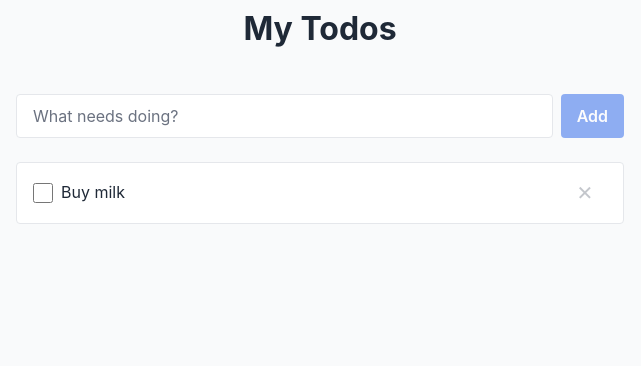
App integration › deleting a todo removes the item
Expected: the text "Buy milk" is shown, [61,182,125,202]
Click the button named "delete: buy milk".
click(585, 193)  # box [563,171,607,215]
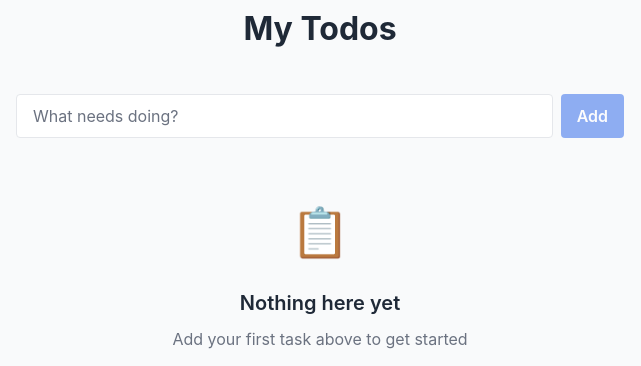
Expected: the text "Buy milk" is gone
Expected: the heading "Nothing here yet" is shown, [240,287,400,319]
